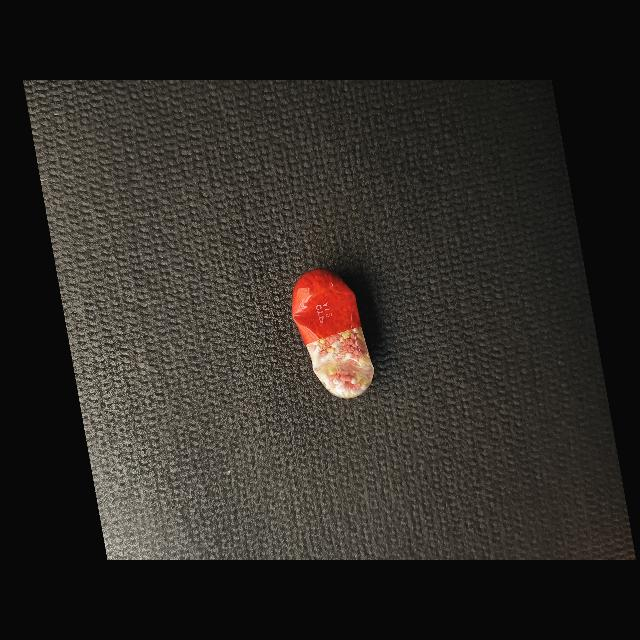Defective Capsule: (292, 269, 374, 398)
